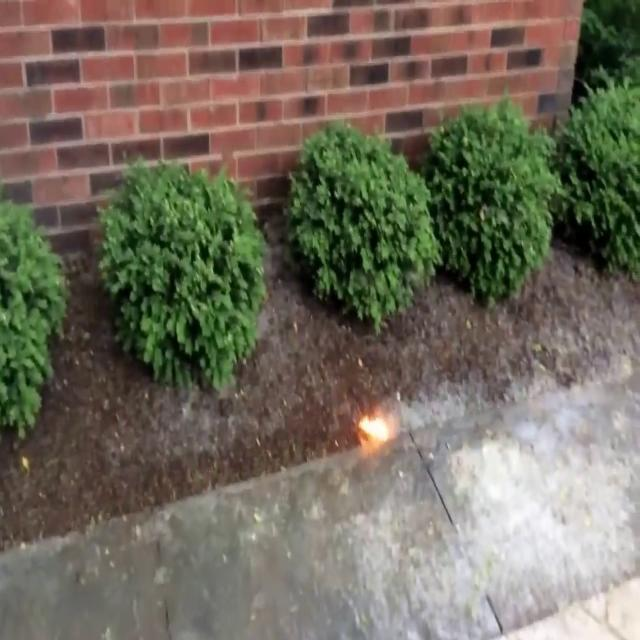Fire: (356, 399, 394, 452)
